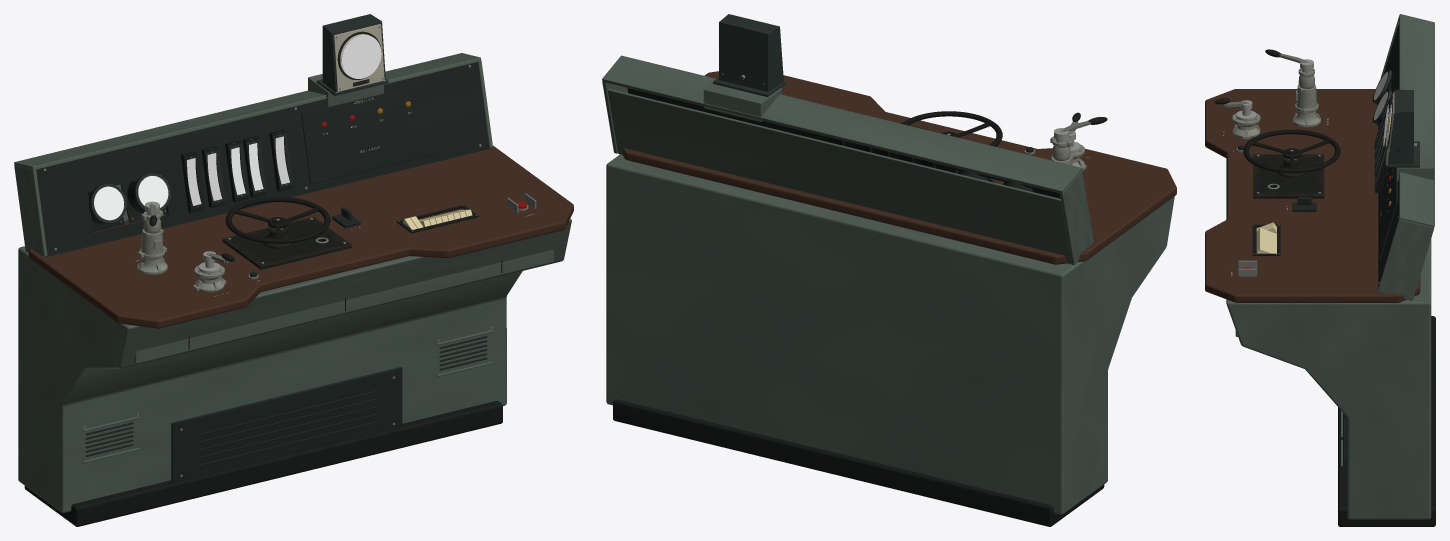
File: MainConsole_study.fbx
3 renders of one model, left to right at view 1: azimuth 30°, elevation 25°; view 2: azimuth 150°, elevation 25°; view 3: azimuth 270°, elevation 25°, orthographic. The views are drawn at different scales.
Parts seen in each view (by area): view 1: Continuous_Folded_Console_Shell, Contoured_Control_Deck, Removable_Instrument_Panel, Knee_Recess_Kick_Plate, Recessed_Toe_Plinth, Auxiliary_Control_Plate, Upper_Front_Service_Fascia, Instrument_Bank_Top_Return, Fixed_Mounting_Plate, Instrument_Bank_Side_Cheek, Fixed_Tapered_Rear_Housing, Fixed_Protective_Glass.003 (+6 smaller); view 2: Continuous_Folded_Console_Shell, Instrument_Bank_Rear_Housing, Contoured_Control_Deck, Instrument_Bank_Top_Return, Recessed_Toe_Plinth, Fixed_Tapered_Rear_Housing, Instrument_Bank_Side_Cheek, Removable_Instrument_Panel, Speedometer_Stand, Moving_Handwheel_Rim; view 3: Contoured_Control_Deck, Continuous_Folded_Console_Shell, Instrument_Bank_Top_Return, Instrument_Bank_Side_Cheek.001, Recessed_Toe_Plinth, Fixed_Mounting_Plate, Fixed_Tapered_Rear_Housing, Moving_Handwheel_Rim, Removable_Instrument_Panel, Auxiliary_Control_Plate, Tall_Lower_Casting, Speedometer_Stand (+2 smaller).
Part boxes in pixels (<box>): Continuous_Folded_Console_Shell: <box>18,218,571,513</box>; Contoured_Control_Deck: <box>28,145,573,328</box>; Removable_Instrument_Panel: <box>36,62,489,256</box>; Knee_Recess_Kick_Plate: <box>171,367,402,481</box>; Recessed_Toe_Plinth: <box>24,401,502,526</box>; Auxiliary_Control_Plate: <box>301,82,437,184</box>; Upper_Front_Service_Fascia: <box>134,249,554,363</box>; Instrument_Bank_Top_Return: <box>14,53,481,169</box>; Fixed_Mounting_Plate: <box>222,217,351,269</box>; Instrument_Bank_Side_Cheek: <box>14,165,47,256</box>; Fixed_Tapered_Rear_Housing: <box>322,14,385,92</box>; Fixed_Protective_Glass.003: <box>341,35,381,78</box>; Continuous_Folded_Console_Shell: <box>606,154,1174,514</box>; Instrument_Bank_Rear_Housing: <box>607,88,1071,264</box>; Contoured_Control_Deck: <box>621,71,1176,264</box>; Instrument_Bank_Top_Return: <box>602,55,1081,193</box>; Recessed_Toe_Plinth: <box>613,399,1104,526</box>; Fixed_Tapered_Rear_Housing: <box>719,14,783,91</box>; Instrument_Bank_Side_Cheek: <box>1059,170,1093,265</box>; Removable_Instrument_Panel: <box>627,88,1060,198</box>; Speedometer_Stand: <box>703,83,781,121</box>; Moving_Handwheel_Rim: <box>901,111,1002,146</box>; Contoured_Control_Deck: <box>1205,89,1420,302</box>; Continuous_Folded_Console_Shell: <box>1226,158,1431,519</box>; Instrument_Bank_Top_Return: <box>1399,14,1434,227</box>; Instrument_Bank_Side_Cheek.001: <box>1377,219,1434,300</box>; Recessed_Toe_Plinth: <box>1338,316,1435,526</box>; Fixed_Mounting_Plate: <box>1253,154,1324,198</box>; Fixed_Tapered_Rear_Housing: <box>1387,89,1413,164</box>; Moving_Handwheel_Rim: <box>1243,129,1340,172</box>; Removable_Instrument_Panel: <box>1378,25,1398,287</box>; Auxiliary_Control_Plate: <box>1378,167,1397,261</box>; Tall_Lower_Casting: <box>1292,84,1320,127</box>; Speedometer_Stand: <box>1396,143,1434,181</box>.
Bounding box in the file's own units: 155 × 130 × 73.
Materials: 63 (29 with a texture image).
